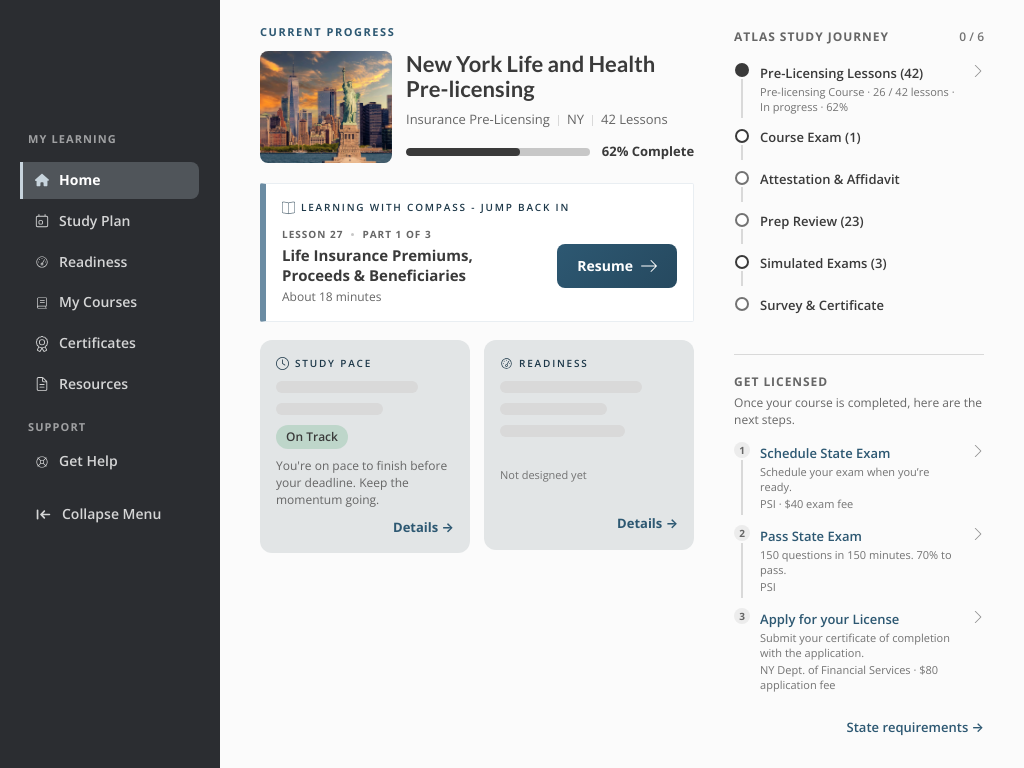
XCEL has no learning-path concept on this version › leaves the path TITLE clickable, opening the requirements sheet
Click the button "New York Life and Health Pre-licensing" at (550, 76), box [406, 50, 694, 102]
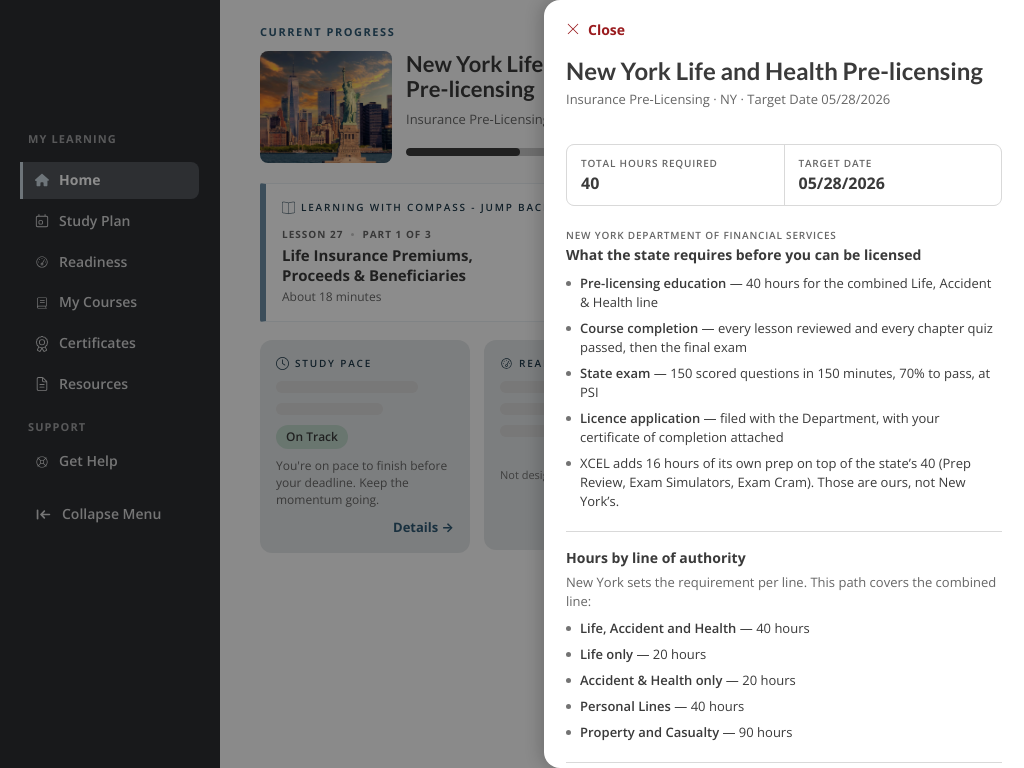
Expected: the dialog shows "what the state requires", [566, 244, 921, 264]
